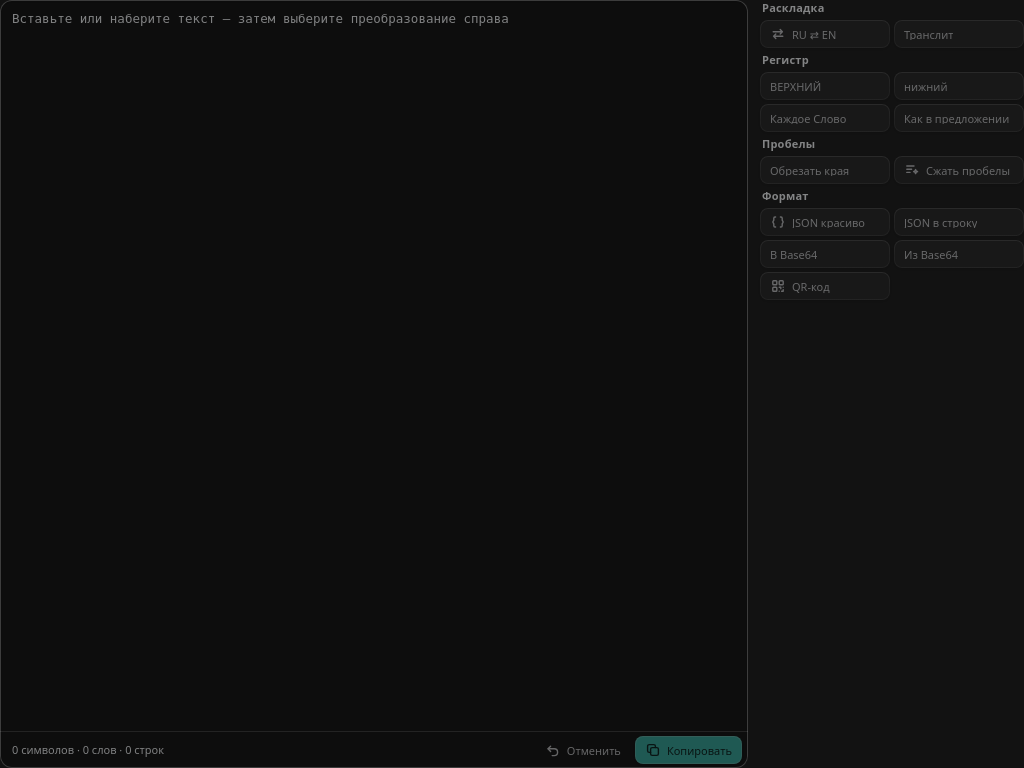
it: Text tab › Base64 round trip with emoji and an error for garbage
Replace the text in the text box named "Текст для преобразования" with "Привет 😀" at (374, 366), box [0, 0, 748, 731]
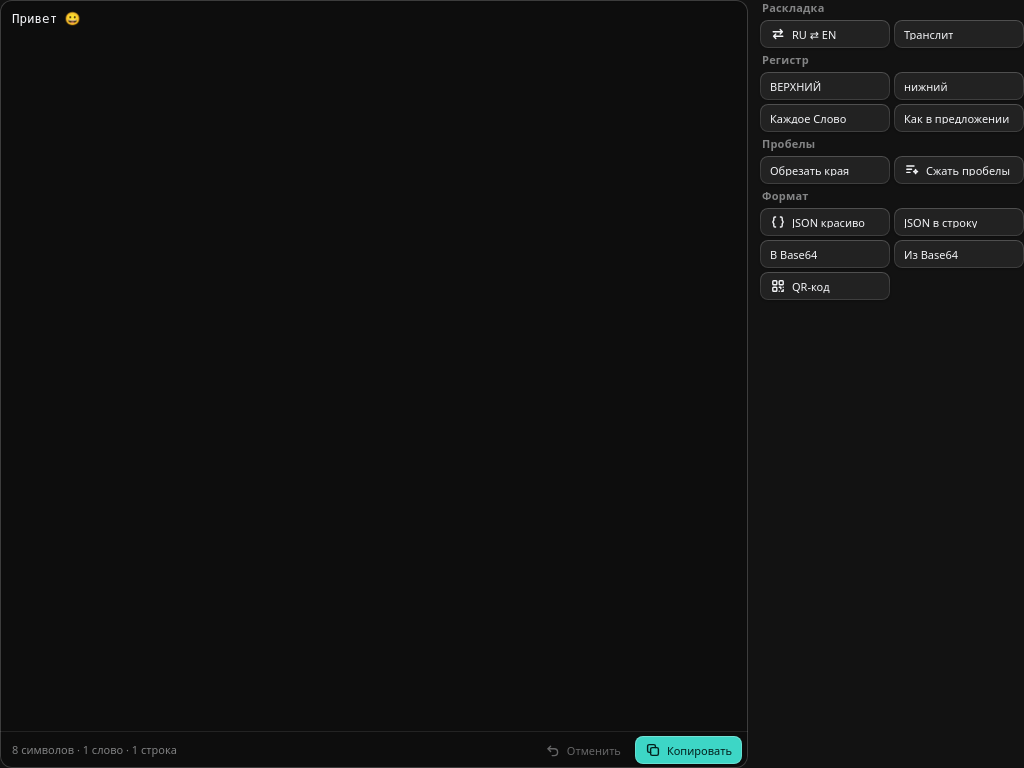
Click the button "В Base64".
click(825, 254)  # box [760, 240, 890, 268]
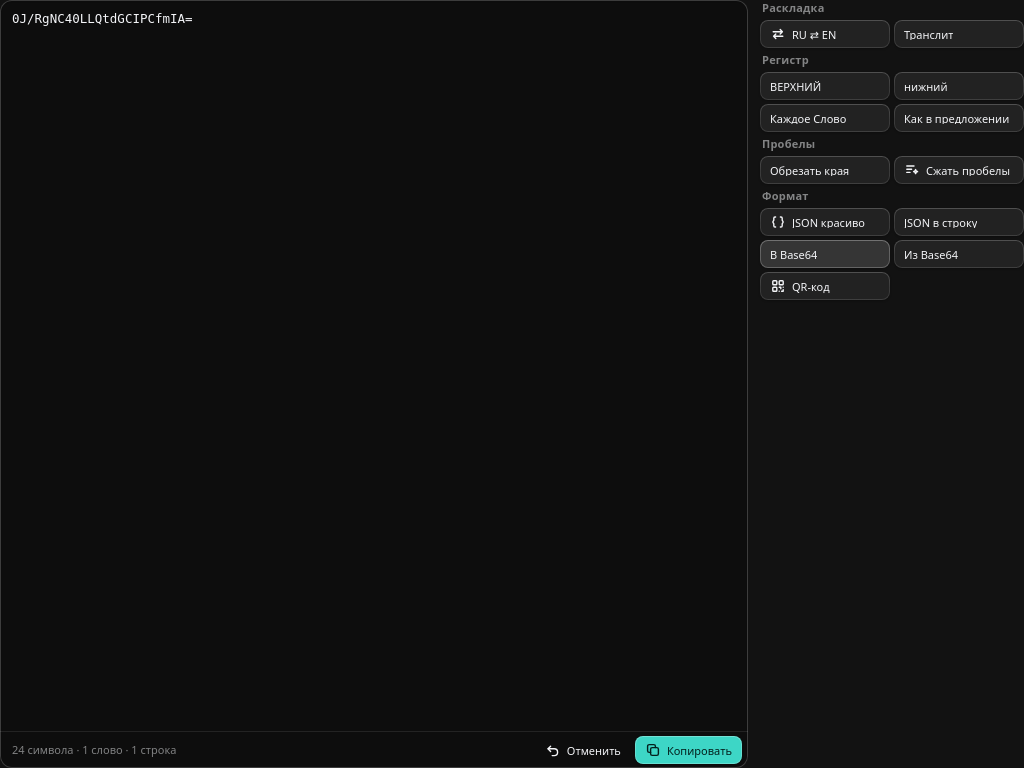
Expected: the text box named "Текст для преобразования" holds "0J/RgNC40LLQtdGCIPCfmIA="
Click the button "Из Base64".
click(959, 254)  # box [894, 240, 1023, 268]
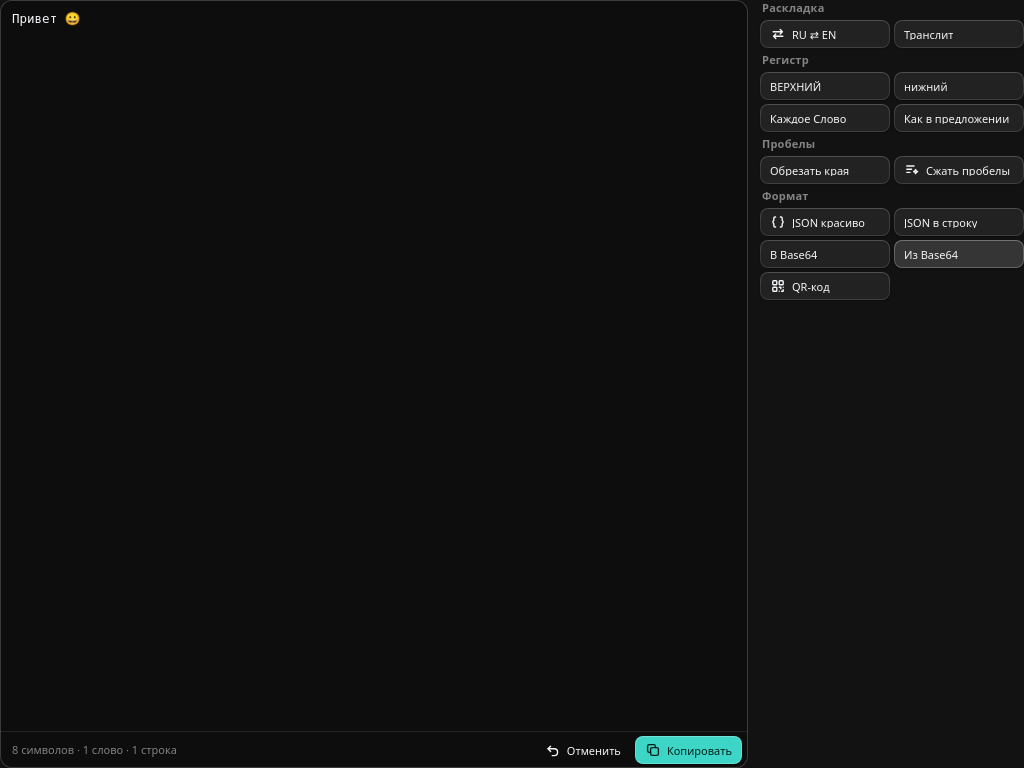
Replace the text in the text box named "Текст для преобразования" with "***" at (374, 366), box [0, 0, 748, 731]
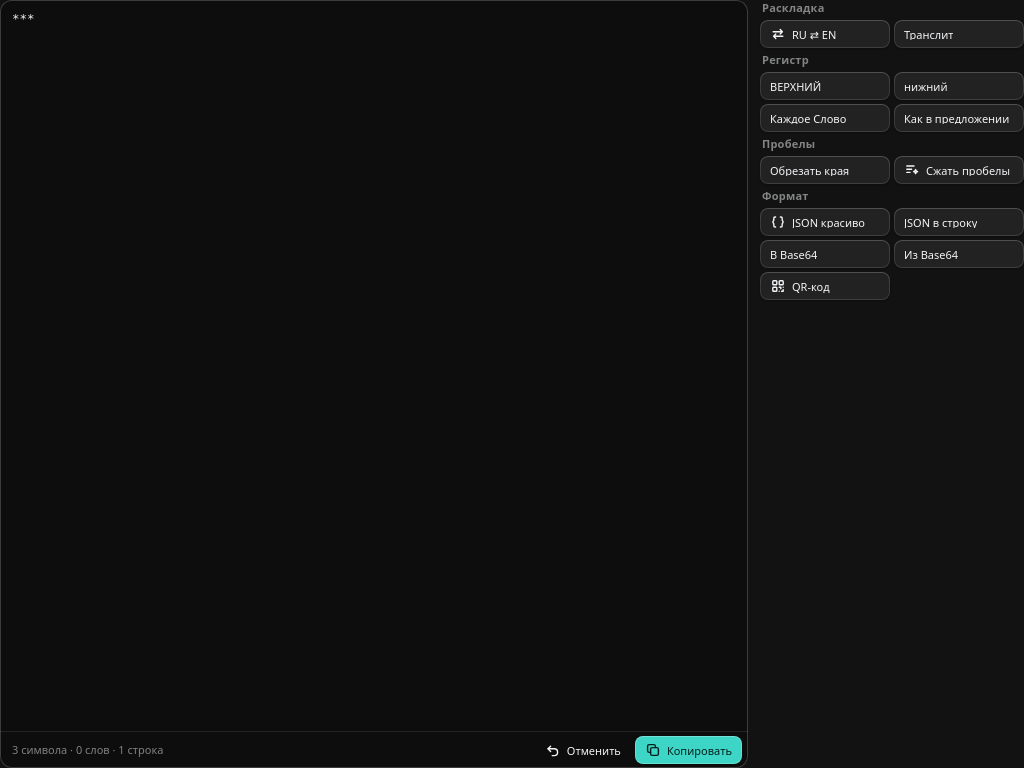
Click the button "Из Base64".
click(959, 254)  # box [894, 240, 1023, 268]
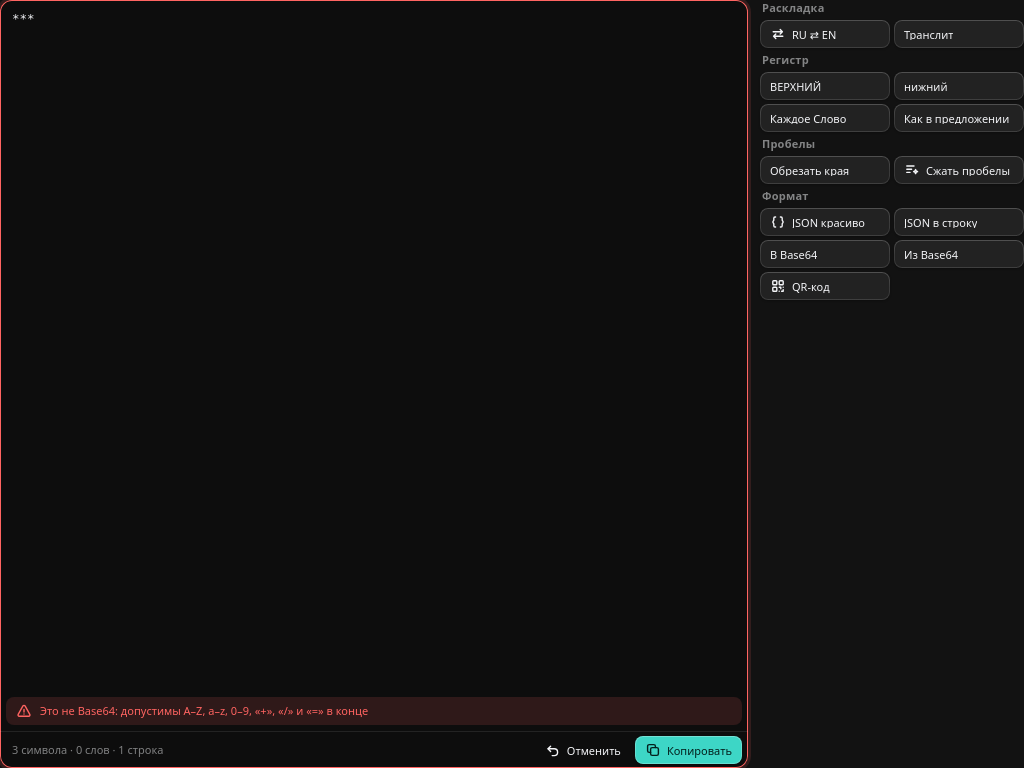
Expected: the message shows "Это не Base64", [40, 703, 368, 718]
